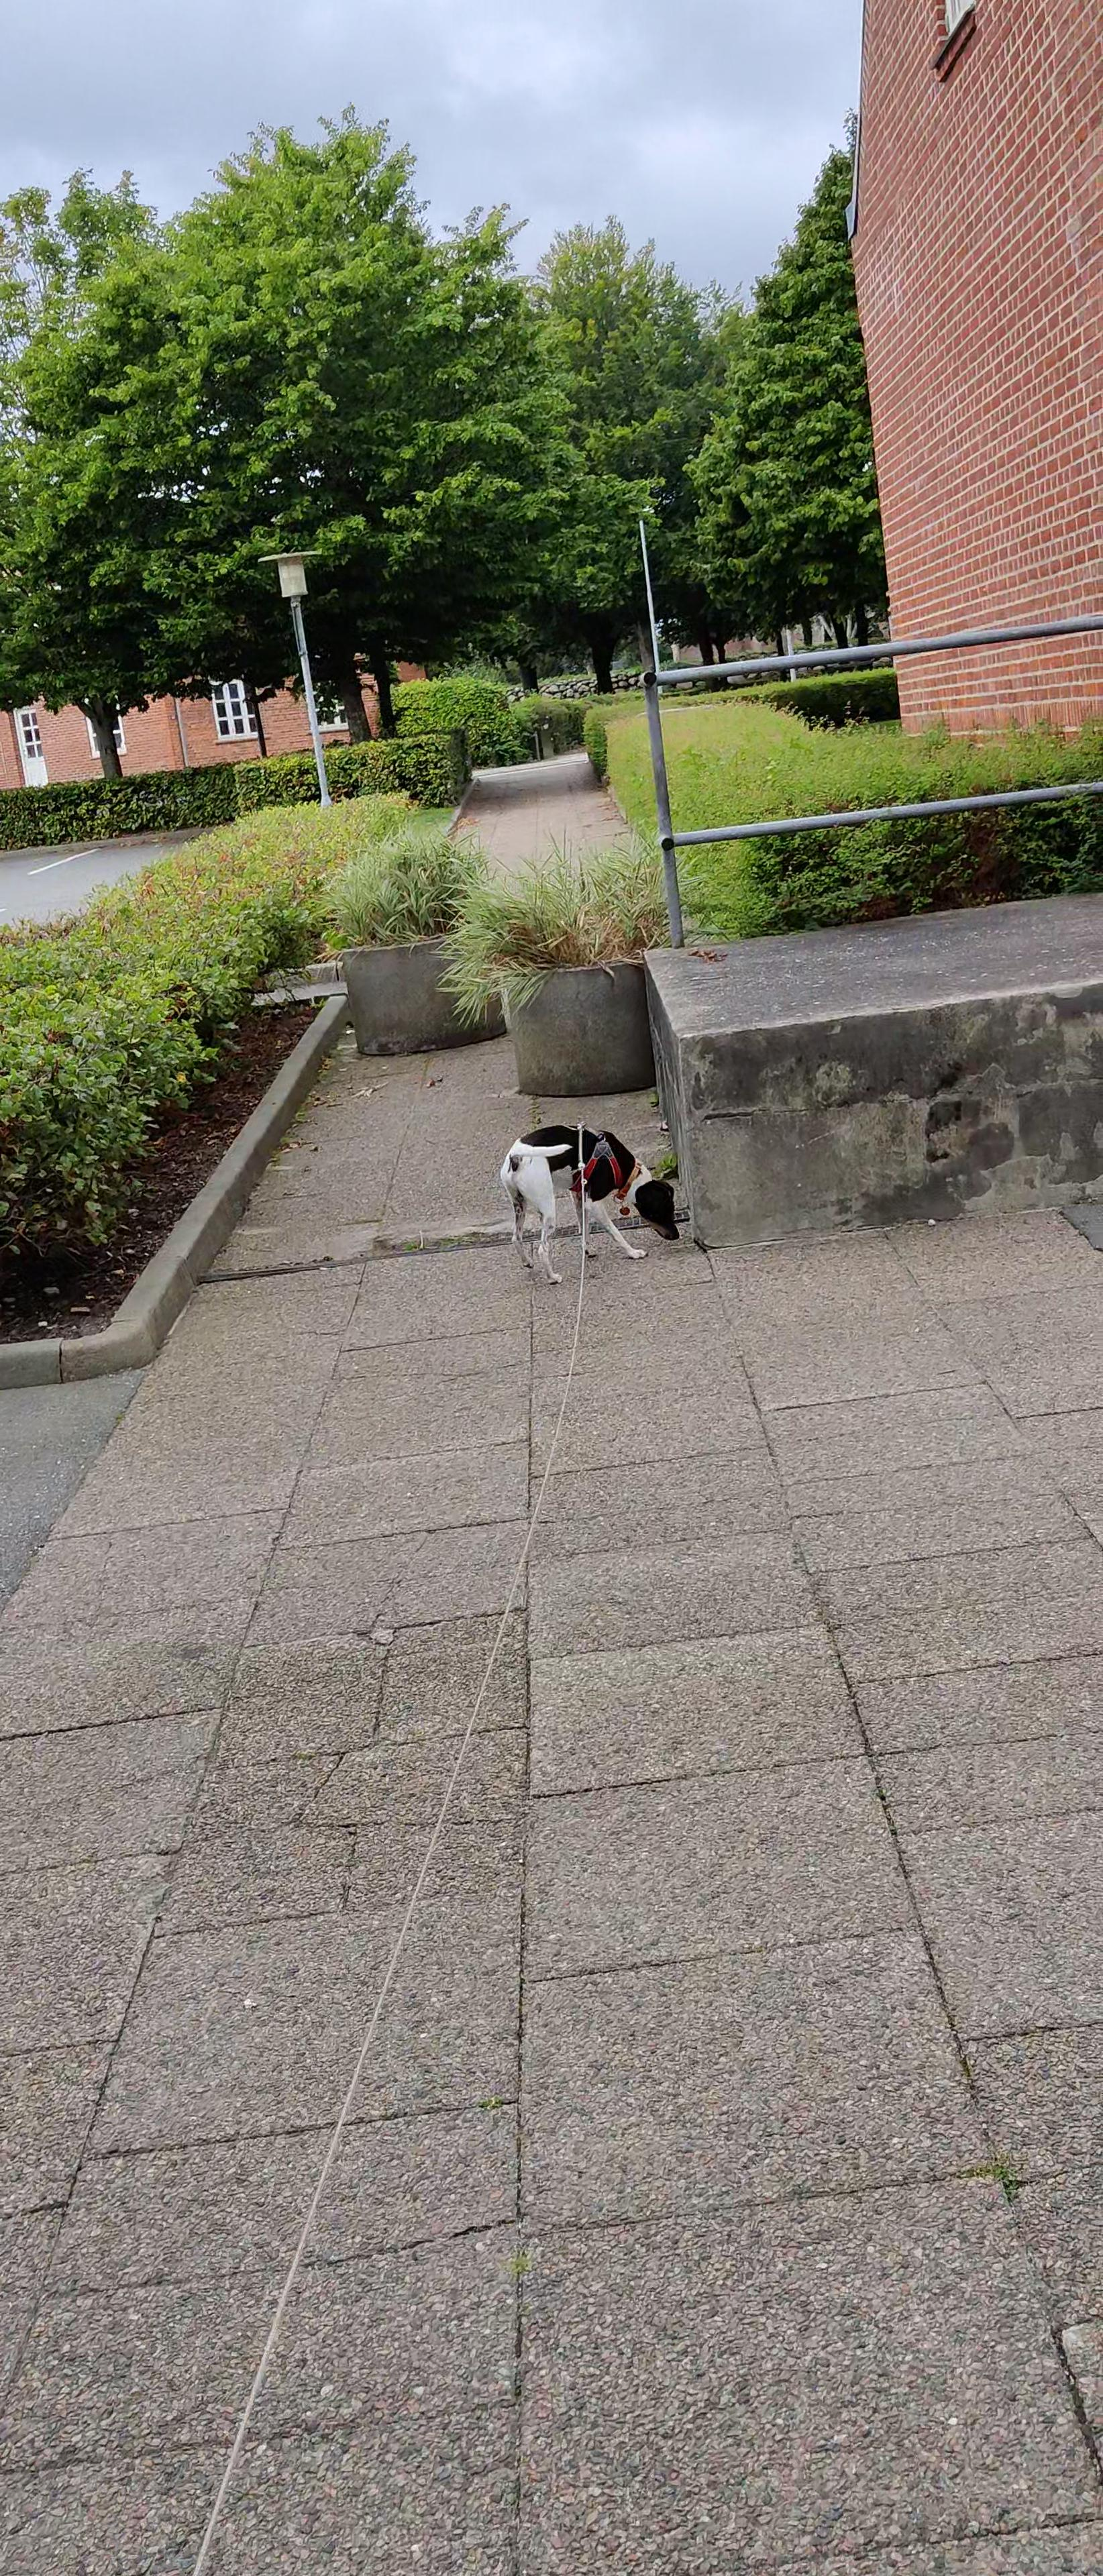Dog: (500, 1119, 682, 1285)
